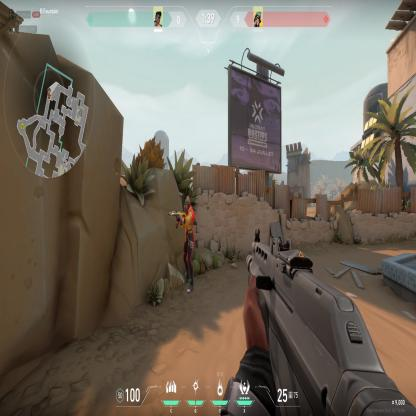enemy: (174, 194, 198, 295)
